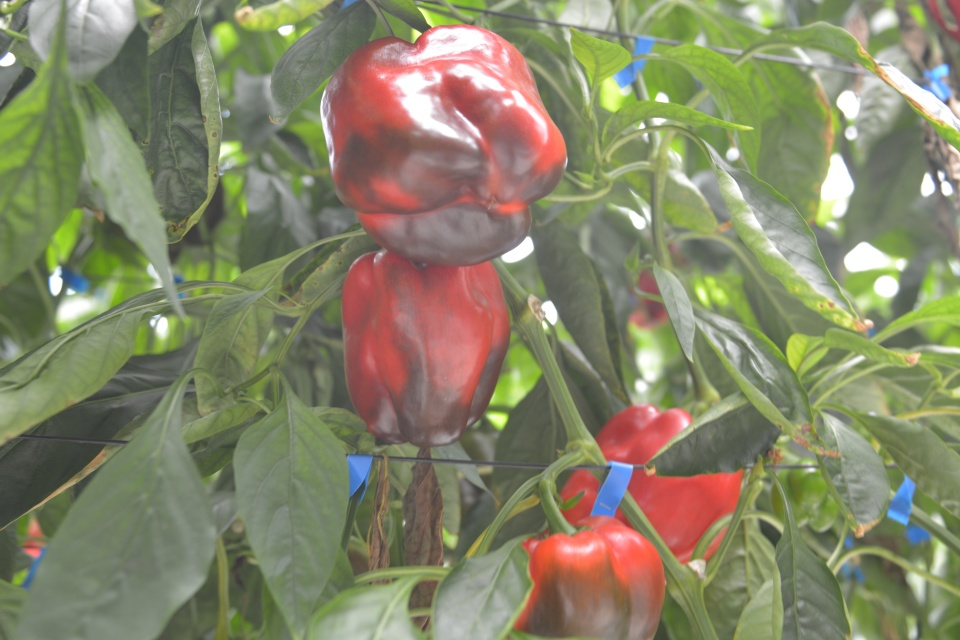fruit: (316, 18, 573, 272), (336, 242, 517, 452), (543, 401, 744, 569), (510, 512, 666, 640)
immature: (770, 456, 840, 536)
